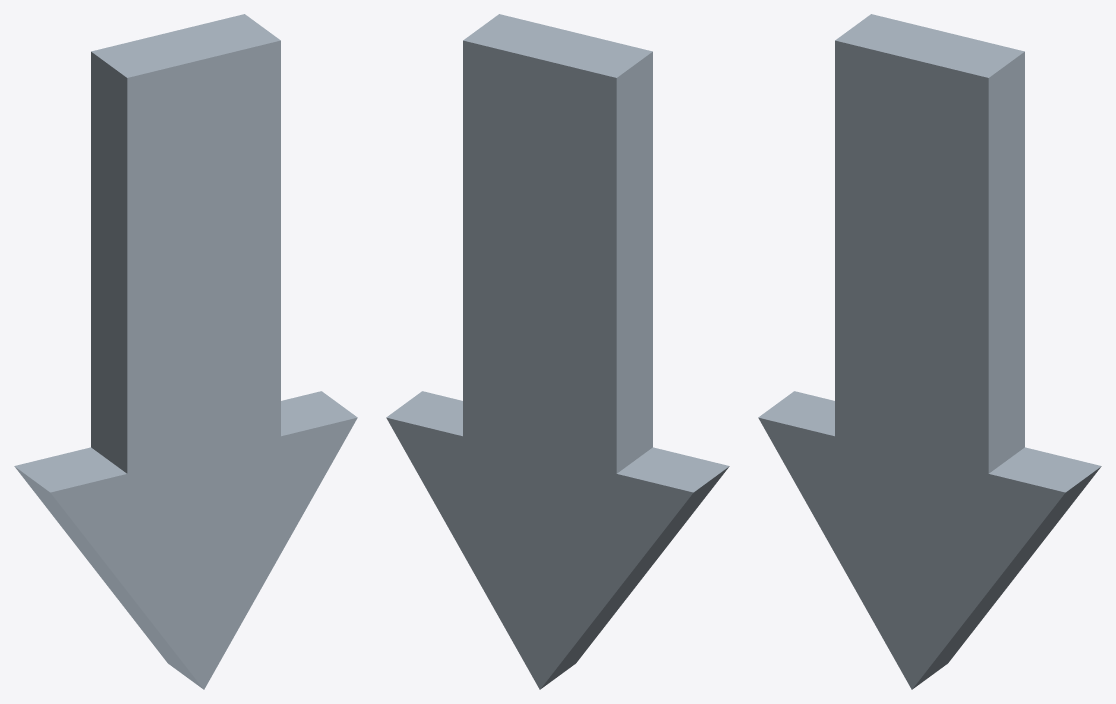
Rendered from arrow.obj.
3 views of the same model, side by side, from view 1: azimuth 30°, elevation 25°; view 2: azimuth 150°, elevation 25°; view 3: azimuth 330°, elevation 25° (orthographic).
Parts seen in each view (by area): view 1: 1; view 2: 1; view 3: 1.
Part boxes in pixels (box(x1,y1,x2,y2)): 1: box(14, 14, 357, 689); 1: box(386, 14, 729, 689); 1: box(758, 14, 1101, 689).
Size of the model in its own units: 122 by 240 by 25.
